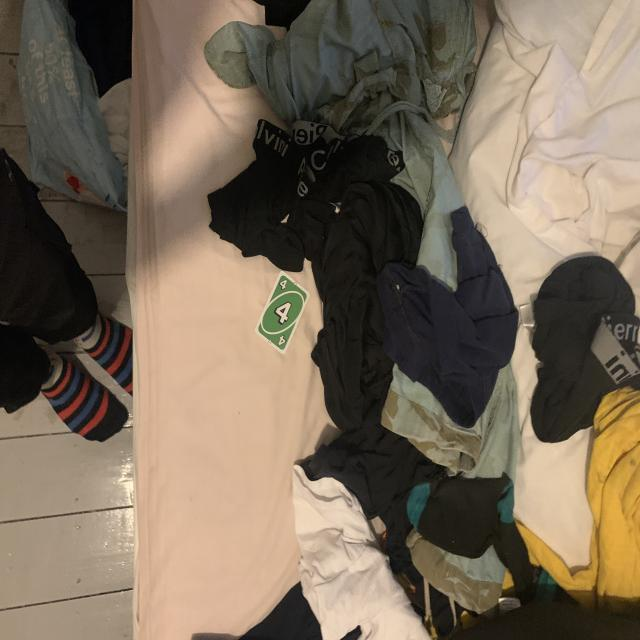lgreen-4: (278, 278, 289, 291)
